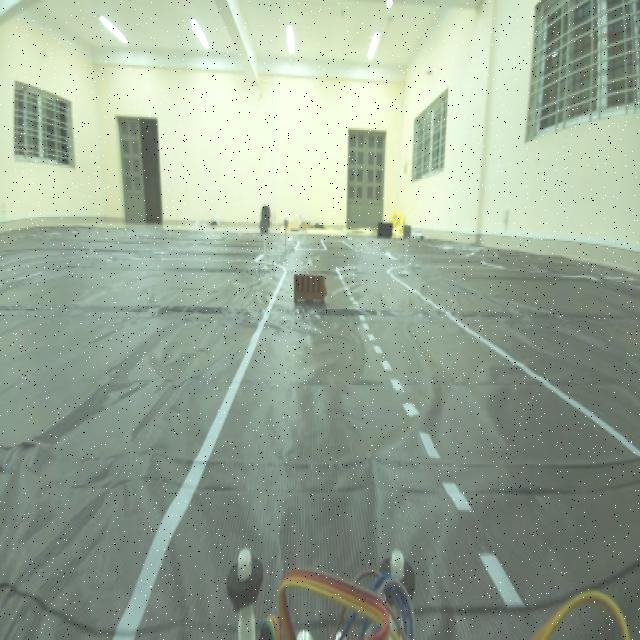roadblock: (288, 258, 334, 327)
